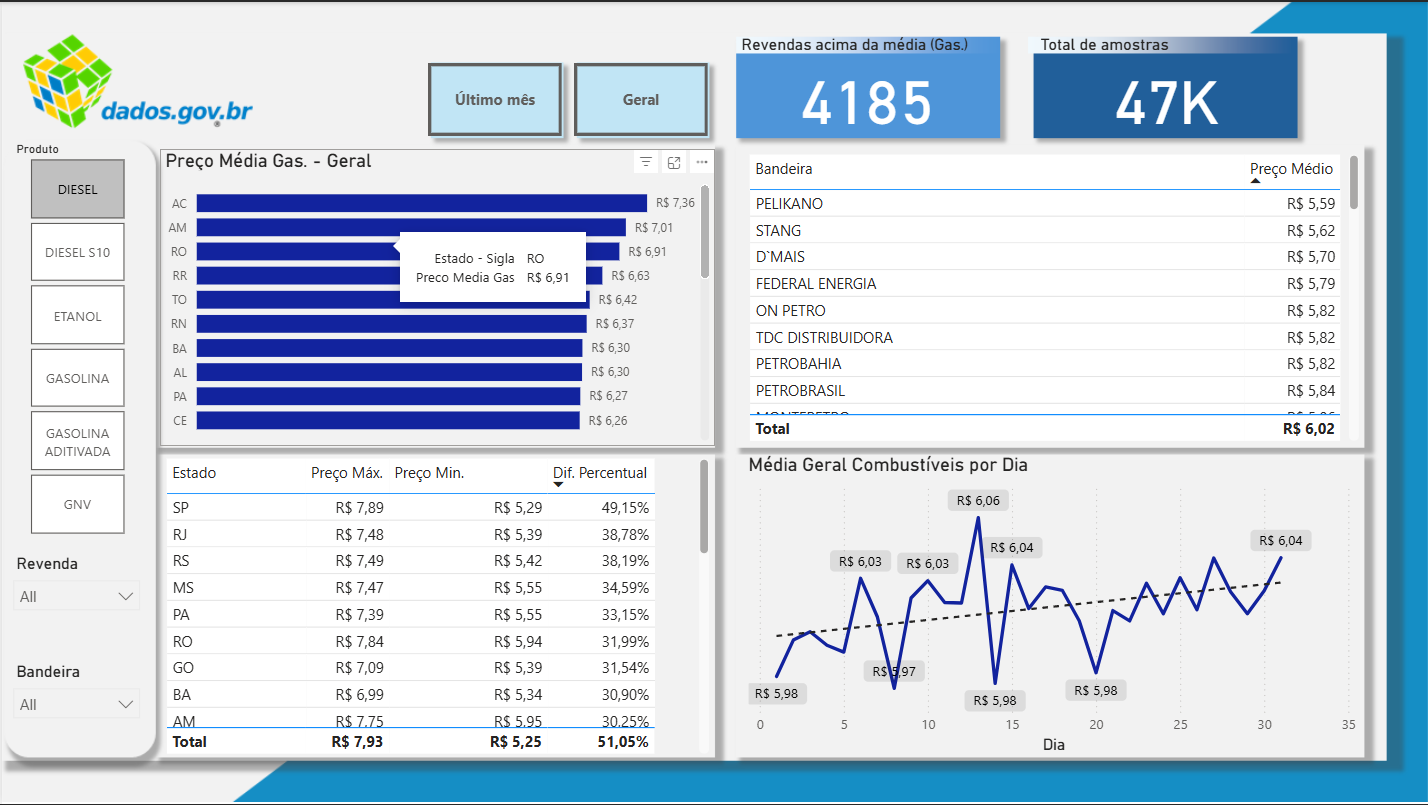

The dashboard page shown, as its layout file describes it:
{"tool":"powerbi","page":{"name":"Relatório de Combustíveis","canvas":[1280,720],"ordinal":0},"visuals":[{"type":"card","title":"Revendas acima da média (Gas.)","fields":{"Values":["Medidas.Revendas acima da Media"]},"box":[659,30.5,236.1,89.8],"z":1000},{"type":"tableEx","fields":{"Values":["dBandeiras.Bandeira","Medidas.Media Geral Combustiveis"]},"box":[665.2,132,558.4,266.6],"z":2000},{"type":"tableEx","fields":{"Values":["dEstados.Estado - Sigla","Max(fPrecos.Valor de Venda)","Min(fPrecos.Valor de Venda)1","Medidas.Dif Percent Diesel"]},"box":[141.8,404.9,498.3,274.7],"z":3000},{"type":"lineChart","title":"Média Geral Combustíveis por Dia","fields":{"Category":["fPrecos.Data da Coleta.Variation.Hierarquia de datas.Ano","fPrecos.Data da Coleta.Variation.Hierarquia de datas.Trimestre","fPrecos.Data da Coleta.Variation.Hierarquia de datas.Mês","fPrecos.Data da Coleta.Variation.Hierarquia de datas.Dia"],"Y":["Medidas.Media Geral Combustiveis"]},"box":[665.2,404.9,558.4,274.7],"z":4000},{"type":"slicer","fields":{"Values":["dProdutos.Produto"]},"box":[0,120.3,133.8,363.6],"z":5000},{"type":"card","title":"Total de amostras","fields":{"Values":["Medidas.Total Amostras"]},"box":[927.4,30.5,236.1,89.8],"z":6000},{"type":"clusteredBarChart","title":"Preço Média Gas. - Geral","fields":{"Category":["dEstados.Estado - Sigla"],"Y":["Medidas.Preco Media Gas"]},"box":[141.8,132,498.3,266.6],"z":7000},{"type":"slicer","fields":{"Values":["dRevenda.Revenda"]},"box":[0,491.1,133.8,97],"z":8000},{"type":"slicer","fields":{"Values":["dBandeiras.Bandeira"]},"box":[0,588,133.8,80.8],"z":9000},{"type":"actionButton","box":[382.4,54.8,120.3,65.5],"z":10000},{"type":"actionButton","box":[513.5,54.8,120.3,65.5],"z":11000}]}

Visuals, with their boxes in screenshot pixels (x1, y1, x2, y2), scaled from the page's 1280x720 canvas onto the 1428x805 screenshot:
"Revendas acima da média (Gas.)" card: [x1=735, y1=34, x2=999, y2=135]
tableEx - dBandeiras.Bandeira x Medidas.Media Geral Combustiveis: [x1=742, y1=148, x2=1365, y2=446]
tableEx - dEstados.Estado - Sigla x Max(fPrecos.Valor de Venda): [x1=158, y1=453, x2=714, y2=760]
"Média Geral Combustíveis por Dia" lineChart: [x1=742, y1=453, x2=1365, y2=760]
slicer - dProdutos.Produto: [x1=0, y1=135, x2=149, y2=541]
"Total de amostras" card: [x1=1035, y1=34, x2=1298, y2=135]
"Preço Média Gas. - Geral" clusteredBarChart: [x1=158, y1=148, x2=714, y2=446]
slicer - dRevenda.Revenda: [x1=0, y1=549, x2=149, y2=658]
slicer - dBandeiras.Bandeira: [x1=0, y1=657, x2=149, y2=748]
actionButton: [x1=427, y1=61, x2=561, y2=135]
actionButton: [x1=573, y1=61, x2=707, y2=135]
